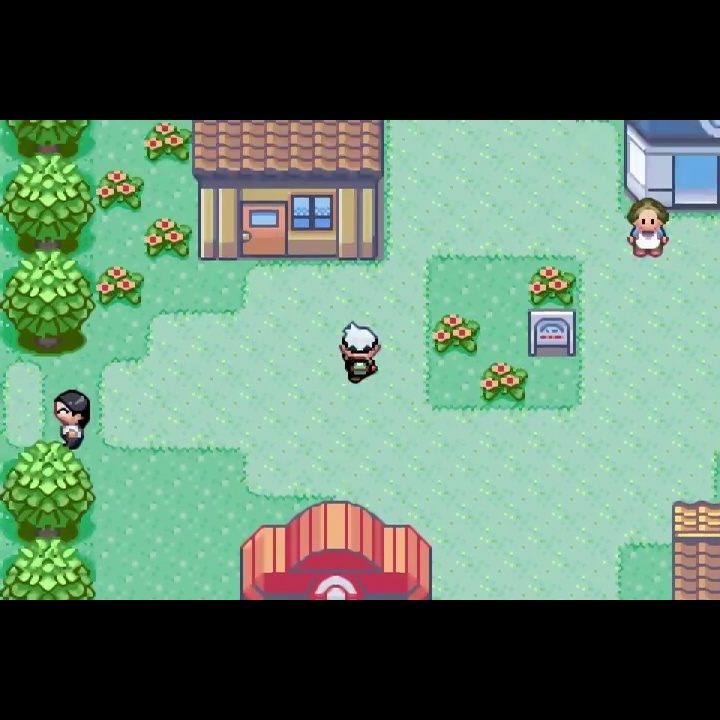house: (192, 120, 387, 263)
npc: (621, 193, 672, 261), (334, 318, 383, 384), (53, 387, 95, 450)
pokecen: (236, 498, 436, 598)
pokemart: (621, 118, 720, 216)
